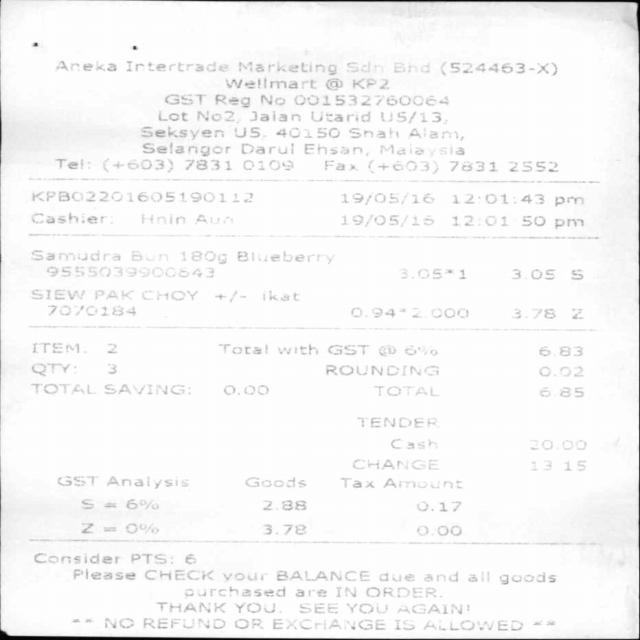text: (30, 190, 252, 203), (45, 266, 214, 277), (293, 94, 448, 105), (439, 61, 557, 75), (349, 306, 467, 318), (323, 363, 439, 375), (237, 61, 335, 75), (235, 250, 333, 264), (271, 617, 385, 629), (184, 585, 284, 598), (141, 142, 229, 156), (340, 213, 433, 226), (105, 475, 189, 489), (423, 618, 521, 630), (338, 192, 434, 204), (275, 570, 370, 582), (125, 60, 227, 71), (378, 143, 463, 156), (451, 193, 543, 205), (140, 125, 222, 138), (366, 159, 436, 174), (33, 552, 119, 564), (224, 77, 315, 88), (101, 158, 172, 172), (29, 249, 119, 260), (351, 458, 438, 469), (103, 383, 189, 394), (354, 416, 436, 427), (30, 213, 111, 224), (46, 304, 135, 314), (378, 111, 446, 124), (396, 602, 469, 614), (302, 143, 368, 156), (383, 477, 461, 488), (366, 586, 442, 597), (142, 618, 225, 628), (371, 384, 439, 396), (275, 126, 340, 138), (407, 126, 462, 140), (144, 569, 214, 580), (154, 601, 224, 612), (308, 110, 371, 122), (397, 268, 465, 279), (529, 458, 586, 471), (497, 571, 554, 584), (29, 382, 93, 393), (240, 142, 294, 155), (450, 214, 508, 226), (528, 438, 586, 450), (72, 568, 135, 579), (54, 60, 116, 71), (243, 477, 305, 488), (139, 289, 197, 300), (347, 126, 398, 138), (179, 250, 225, 263), (30, 288, 84, 299), (215, 343, 268, 354), (508, 160, 556, 172), (248, 110, 300, 121), (241, 159, 293, 170), (30, 363, 76, 375), (30, 342, 80, 353), (390, 438, 438, 449), (414, 500, 461, 511), (183, 159, 229, 170), (222, 384, 268, 395), (213, 94, 249, 108), (446, 160, 496, 170), (139, 212, 184, 223), (538, 365, 583, 376), (538, 386, 583, 397), (415, 525, 460, 536), (510, 268, 554, 279), (326, 344, 370, 355), (163, 93, 205, 104), (276, 343, 318, 354), (56, 475, 98, 486), (345, 602, 387, 613), (345, 60, 383, 72), (297, 602, 338, 613), (510, 308, 555, 318), (261, 499, 306, 509), (261, 524, 306, 534), (196, 110, 236, 121), (538, 346, 582, 356), (128, 553, 172, 563), (232, 602, 276, 612), (351, 78, 389, 89), (129, 249, 167, 260), (402, 344, 436, 356), (424, 570, 458, 582), (337, 477, 374, 488), (53, 158, 89, 169), (262, 289, 298, 300), (221, 572, 265, 581), (193, 214, 232, 224), (93, 290, 132, 300), (323, 159, 357, 170), (213, 290, 244, 302), (393, 62, 430, 72), (125, 522, 157, 533), (103, 617, 134, 628), (124, 498, 158, 508), (378, 570, 412, 580), (156, 110, 188, 120), (466, 570, 491, 582), (232, 126, 259, 137), (553, 218, 582, 228), (554, 196, 582, 206), (234, 618, 262, 628), (294, 588, 325, 597), (521, 214, 544, 226), (334, 586, 357, 597), (260, 94, 284, 104), (394, 618, 414, 630), (325, 77, 342, 90), (377, 344, 395, 356), (80, 497, 92, 509), (570, 268, 582, 279), (570, 308, 582, 319), (105, 342, 117, 353), (80, 522, 91, 533), (104, 363, 116, 373), (183, 554, 195, 564)
